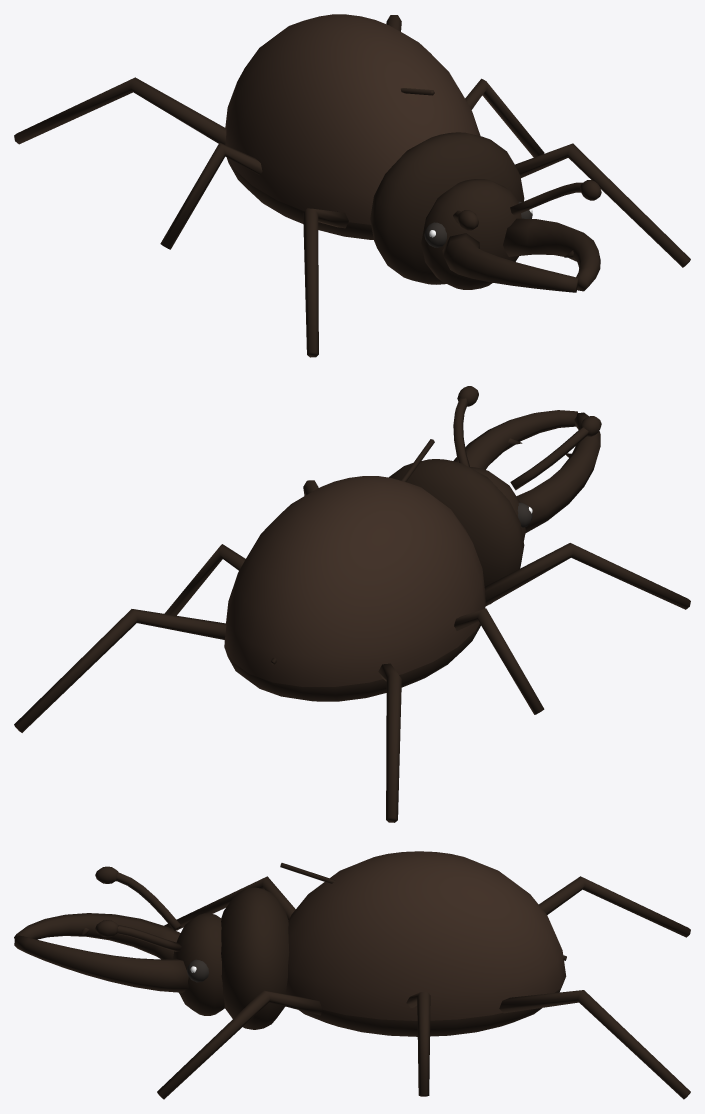
The model's file is bug-stag-beetle.glb.
3 views of the same model, one above another, from view 1: azimuth 30°, elevation 25°; view 2: azimuth 150°, elevation 25°; view 3: azimuth 270°, elevation 25° (orthographic). The views are drawn at different scales.
Visible parts, largest first — view 1: bug; view 2: bug; view 3: bug.
Boxes of the visible parts, left/top/right/bottom form: bug: left=14, top=14, right=690, bottom=357; bug: left=14, top=386, right=690, bottom=822; bug: left=14, top=851, right=690, bottom=1099.
Size of the model in its own units: 0.215 by 0.0986 by 0.3683.
